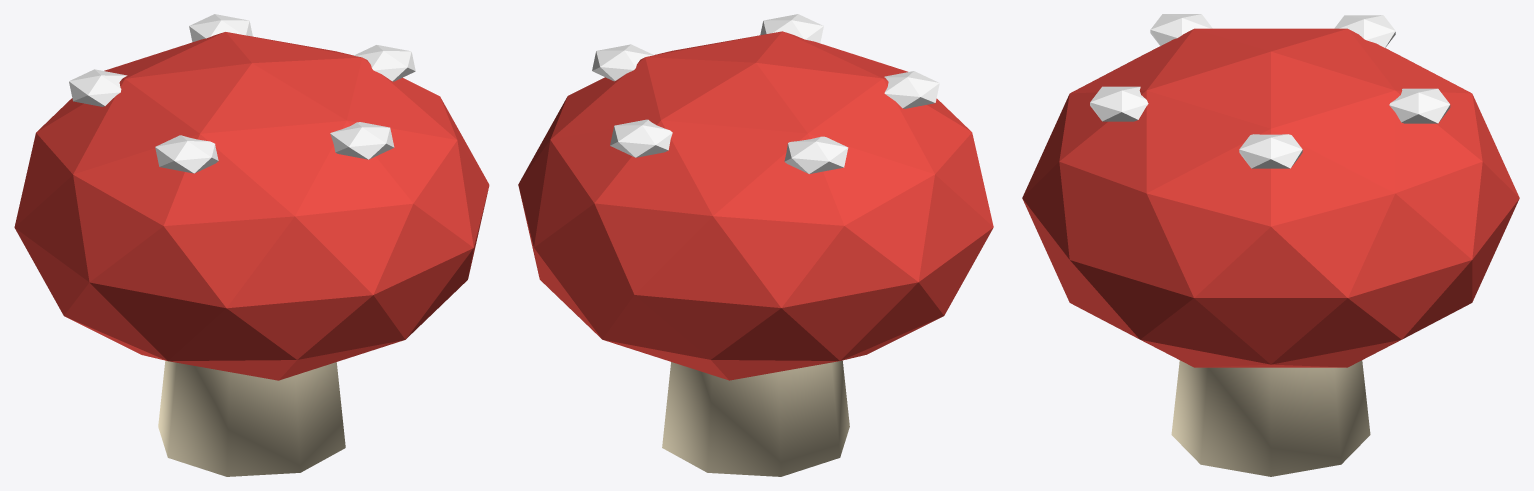
The model's file is mushroom.glb.
3 views of the same model, side by side, from view 1: azimuth 30°, elevation 25°; view 2: azimuth 150°, elevation 25°; view 3: azimuth 270°, elevation 25° (orthographic). The views are drawn at different scales.
Visible parts, largest first — view 1: mushroom; view 2: mushroom; view 3: mushroom.
Boxes of the visible parts, <box> form: mushroom: <box>14,14,489,476</box>; mushroom: <box>518,14,993,476</box>; mushroom: <box>1022,14,1519,476</box>.
Bounding box in the file's own units: 0.7608 × 0.68 × 0.8.
